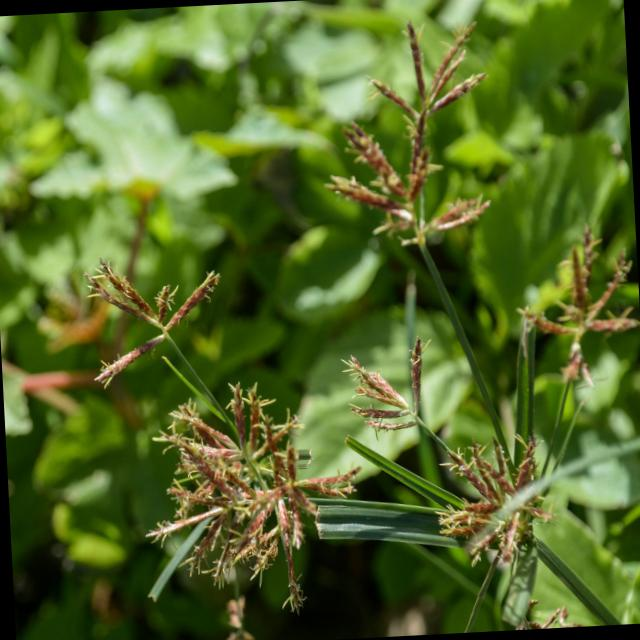cyperus: (143, 368, 360, 618), (317, 11, 504, 272), (424, 397, 578, 595), (75, 242, 226, 396), (510, 216, 640, 381), (332, 330, 442, 450)
